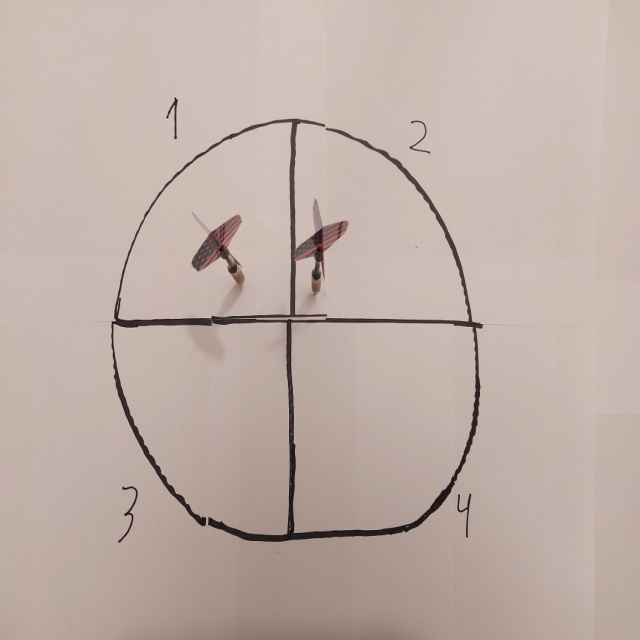Dart: (288, 197, 353, 304), (183, 208, 254, 296)
